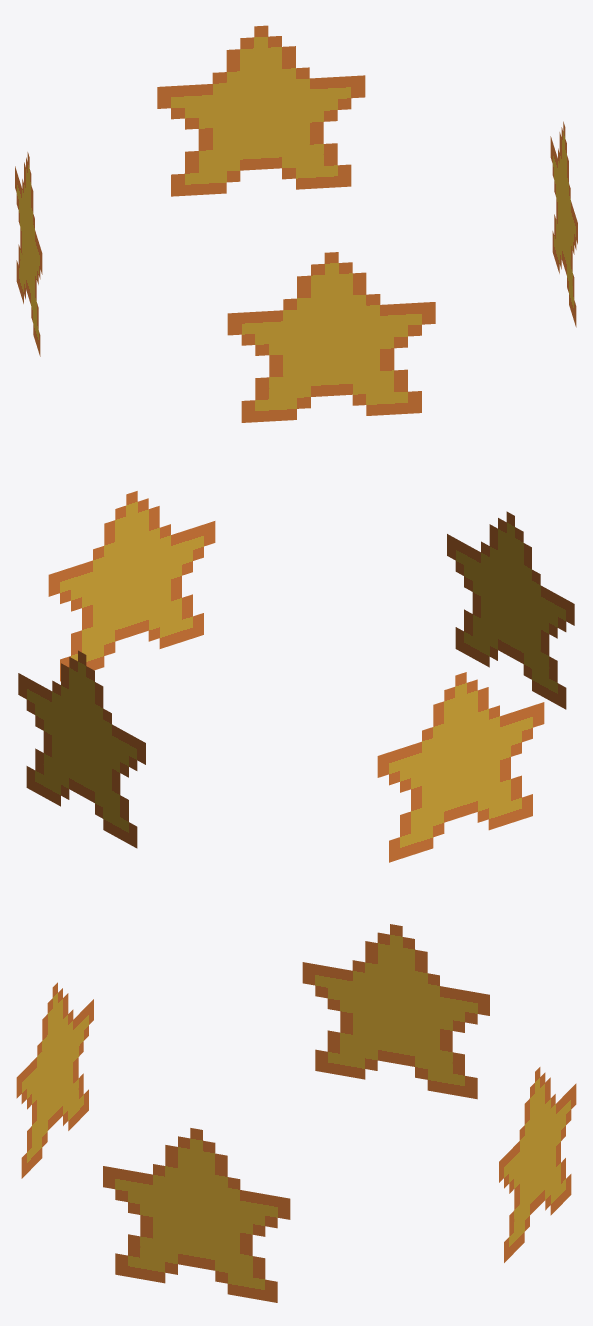
Rendered from DamagedStars.fbx.
3 views of the same model, one above another, from view 1: azimuth 30°, elevation 25°; view 2: azimuth 150°, elevation 25°; view 3: azimuth 270°, elevation 25° (orthographic). The views are drawn at different scales.
Visible parts, largest first — view 1: pCylinder1; view 2: pCylinder1; view 3: pCylinder1.
Part boxes in pixels (box(x1,y1,x2,y2)): pCylinder1: box(15, 25, 577, 422); pCylinder1: box(18, 491, 574, 862); pCylinder1: box(16, 924, 576, 1302).
Bounding box in the file's own units: 12 × 4 × 12.
